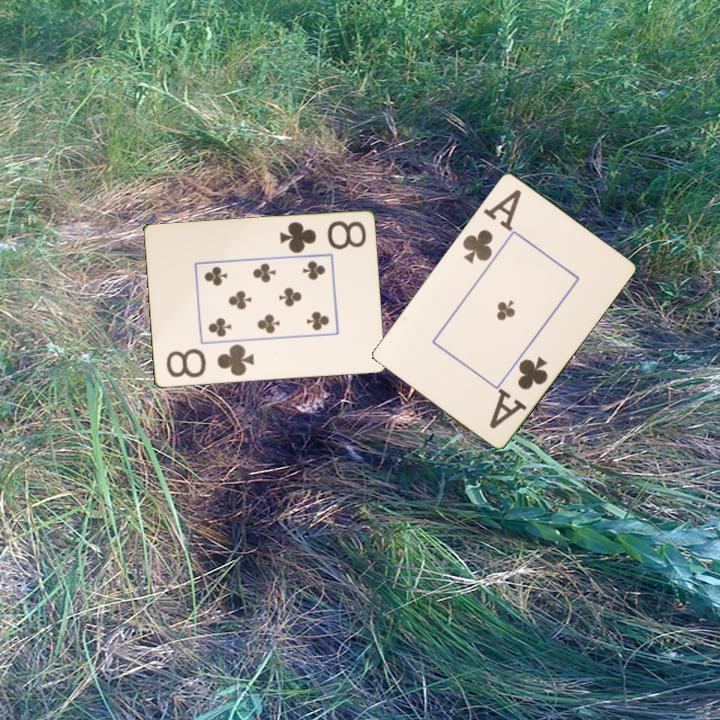8c: (162, 341, 257, 381), (276, 217, 369, 256)
Ac: (459, 185, 525, 266), (485, 352, 551, 432)
